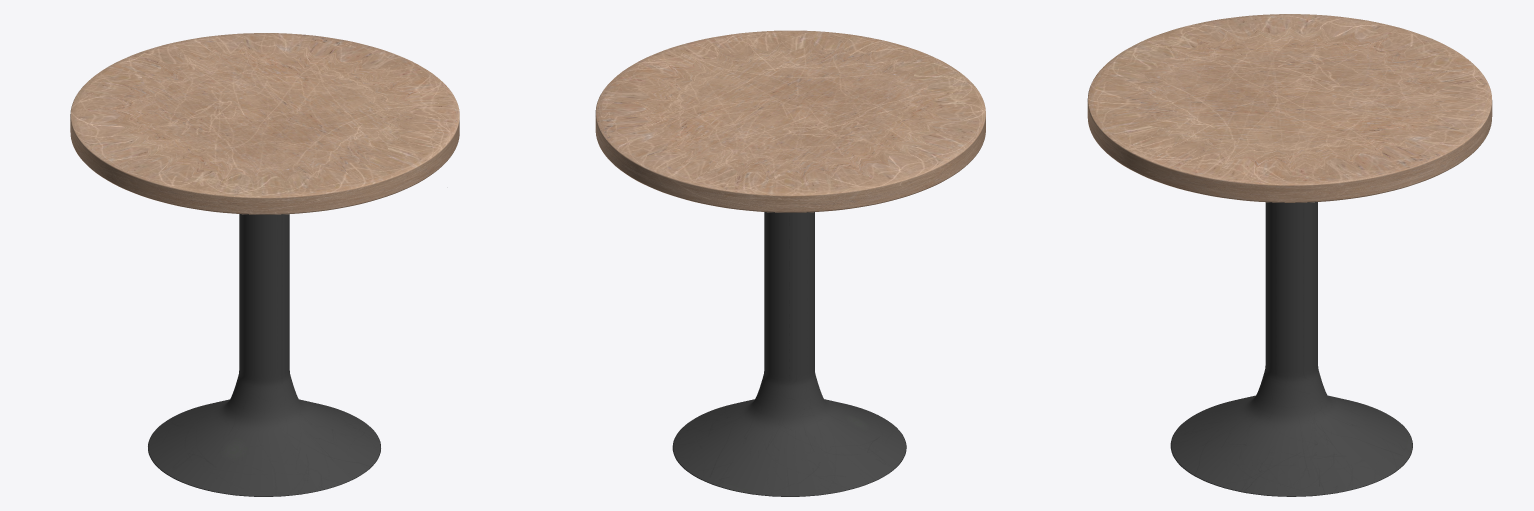
The model's file is modern_wooden_bar_table.glb.
3 views of the same model, side by side, from view 1: azimuth 30°, elevation 25°; view 2: azimuth 150°, elevation 25°; view 3: azimuth 270°, elevation 25° (orthographic). The views are drawn at different scales.
Visible parts, largest first — view 1: Bar Table; view 2: Bar Table; view 3: Bar Table.
Boxes of the visible parts, x1=… form: Bar Table: x1=70, y1=33, x2=459, y2=496; Bar Table: x1=595, y1=30, x2=985, y2=496; Bar Table: x1=1087, y1=14, x2=1492, y2=496.
Size of the model in its own units: 2.76 by 2.65 by 3.1.
2 materials, 2 textured.
